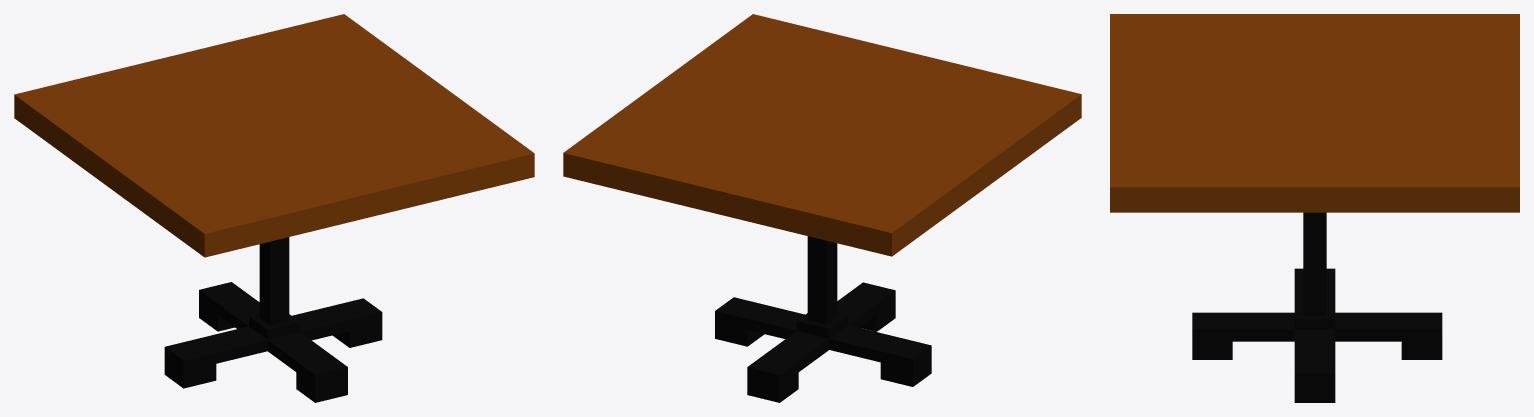
File: Table.fbx
3 views of the same model, side by side, from view 1: azimuth 30°, elevation 25°; view 2: azimuth 150°, elevation 25°; view 3: azimuth 270°, elevation 25° (orthographic). The views are drawn at different scales.
Parts seen in each view (by area): view 1: table; view 2: table; view 3: table.
Boxes of the visible parts, left/top/right/bottom form: table: left=14, top=14, right=534, bottom=402; table: left=563, top=14, right=1081, bottom=402; table: left=1110, top=14, right=1519, bottom=402.
Bounding box in the file's own units: 547 × 369 × 547.
Materials: 2 (2 with a texture image).
